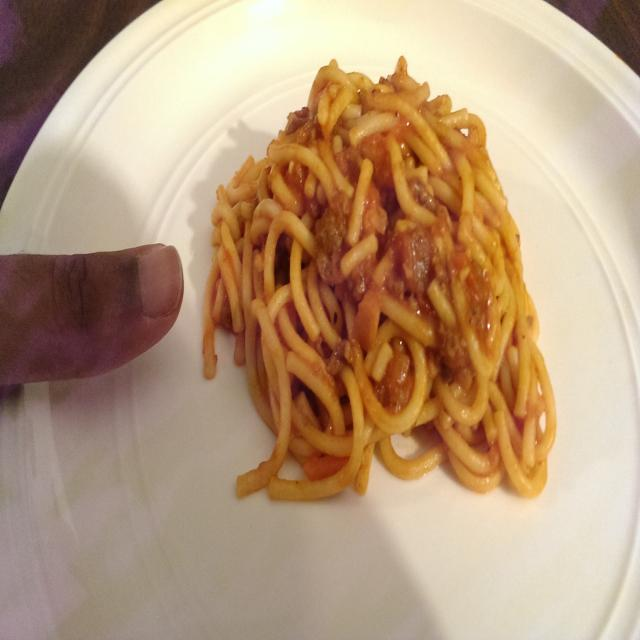pasta: (202, 54, 557, 503)
